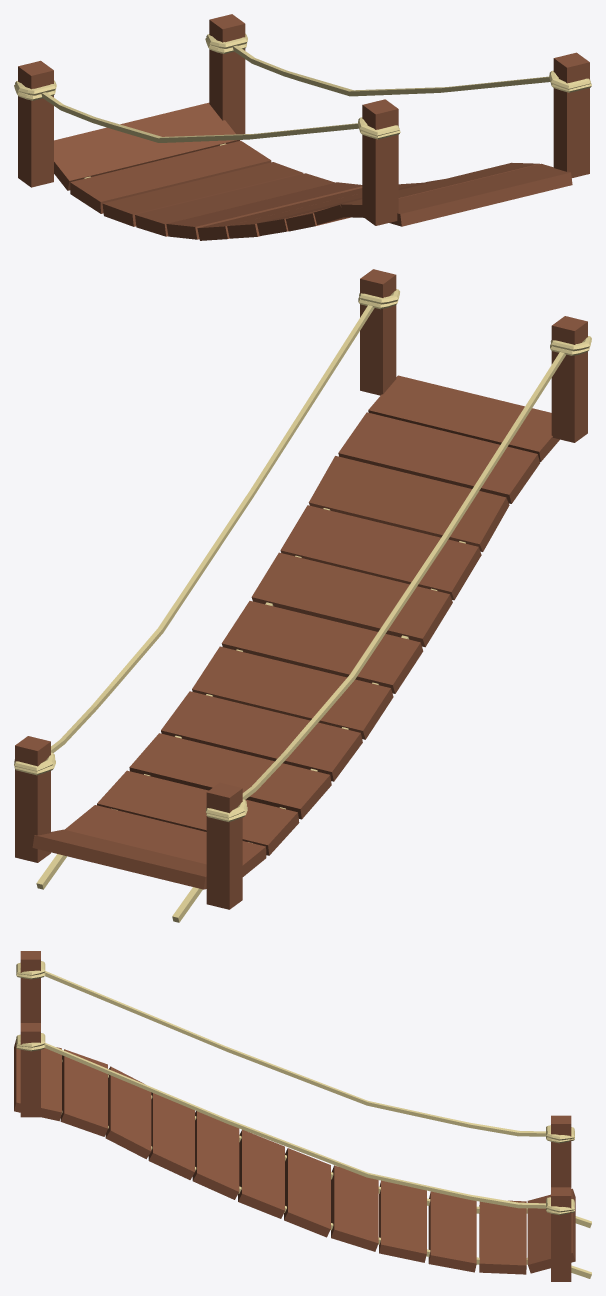
Rendered from MI_bridge.fbx.
3 views of the same model, one above another, from view 1: azimuth 30°, elevation 25°; view 2: azimuth 150°, elevation 25°; view 3: azimuth 270°, elevation 25° (orthographic). The views are drawn at different scales.
Visible parts, largest first — view 1: Bridge; view 2: Bridge; view 3: Bridge.
Boxes of the visible parts, x1=… form: Bridge: x1=14, y1=14, x2=591, y2=240; Bridge: x1=14, y1=269, x2=591, y2=922; Bridge: x1=14, y1=951, x2=591, y2=1281.
Size of the model in its own units: 30.78 by 43.29 by 86.97.
